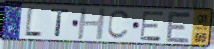C: (106, 9, 132, 41)
E: (164, 10, 193, 44), (139, 10, 165, 42)
H: (76, 7, 108, 41)
L: (23, 5, 43, 39)
T: (50, 7, 71, 38)
